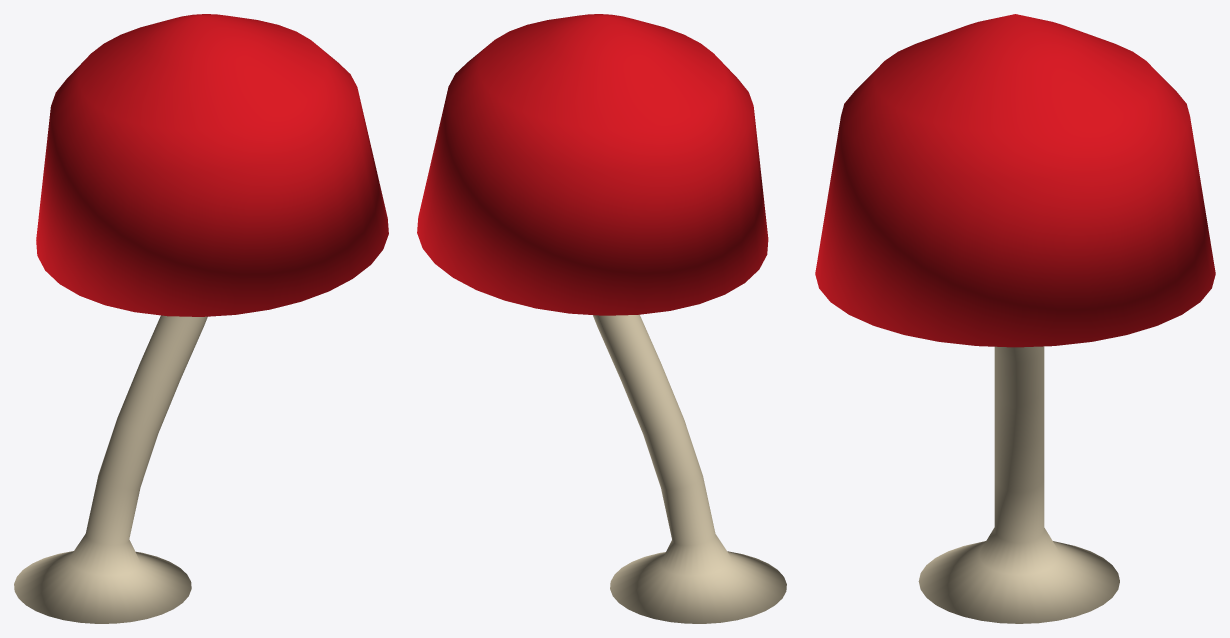
The model's file is champi23.fbx.
3 views of the same model, side by side, from view 1: azimuth 30°, elevation 25°; view 2: azimuth 150°, elevation 25°; view 3: azimuth 270°, elevation 25° (orthographic). The views are drawn at different scales.
Parts seen in each view (by area): view 1: Cylinder_001; view 2: Cylinder_001; view 3: Cylinder_001.
Part boxes in pixels (left/top/right/bottom): Cylinder_001: left=14, top=14, right=388, bottom=623; Cylinder_001: left=417, top=14, right=786, bottom=623; Cylinder_001: left=815, top=14, right=1215, bottom=623.
Size of the model in its own units: 87.7 by 136 by 79.55.
